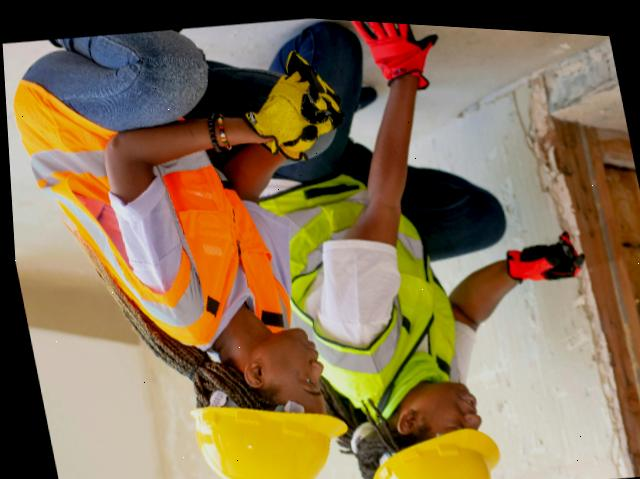helmet: (153, 393, 353, 479), (325, 403, 504, 479)
vest: (2, 45, 281, 384), (261, 158, 460, 407)
